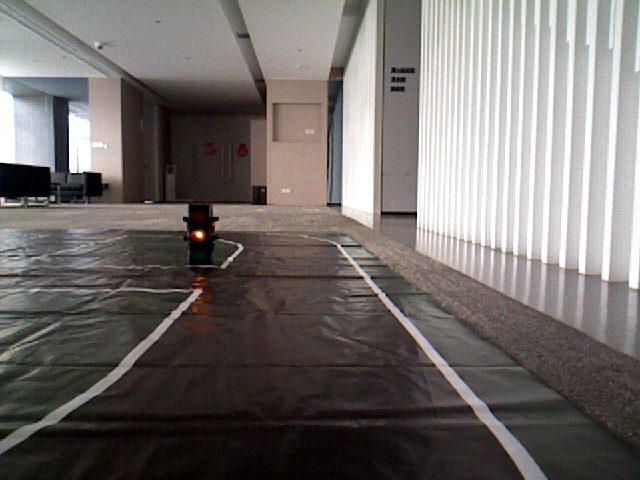yellow: (185, 201, 213, 265)
